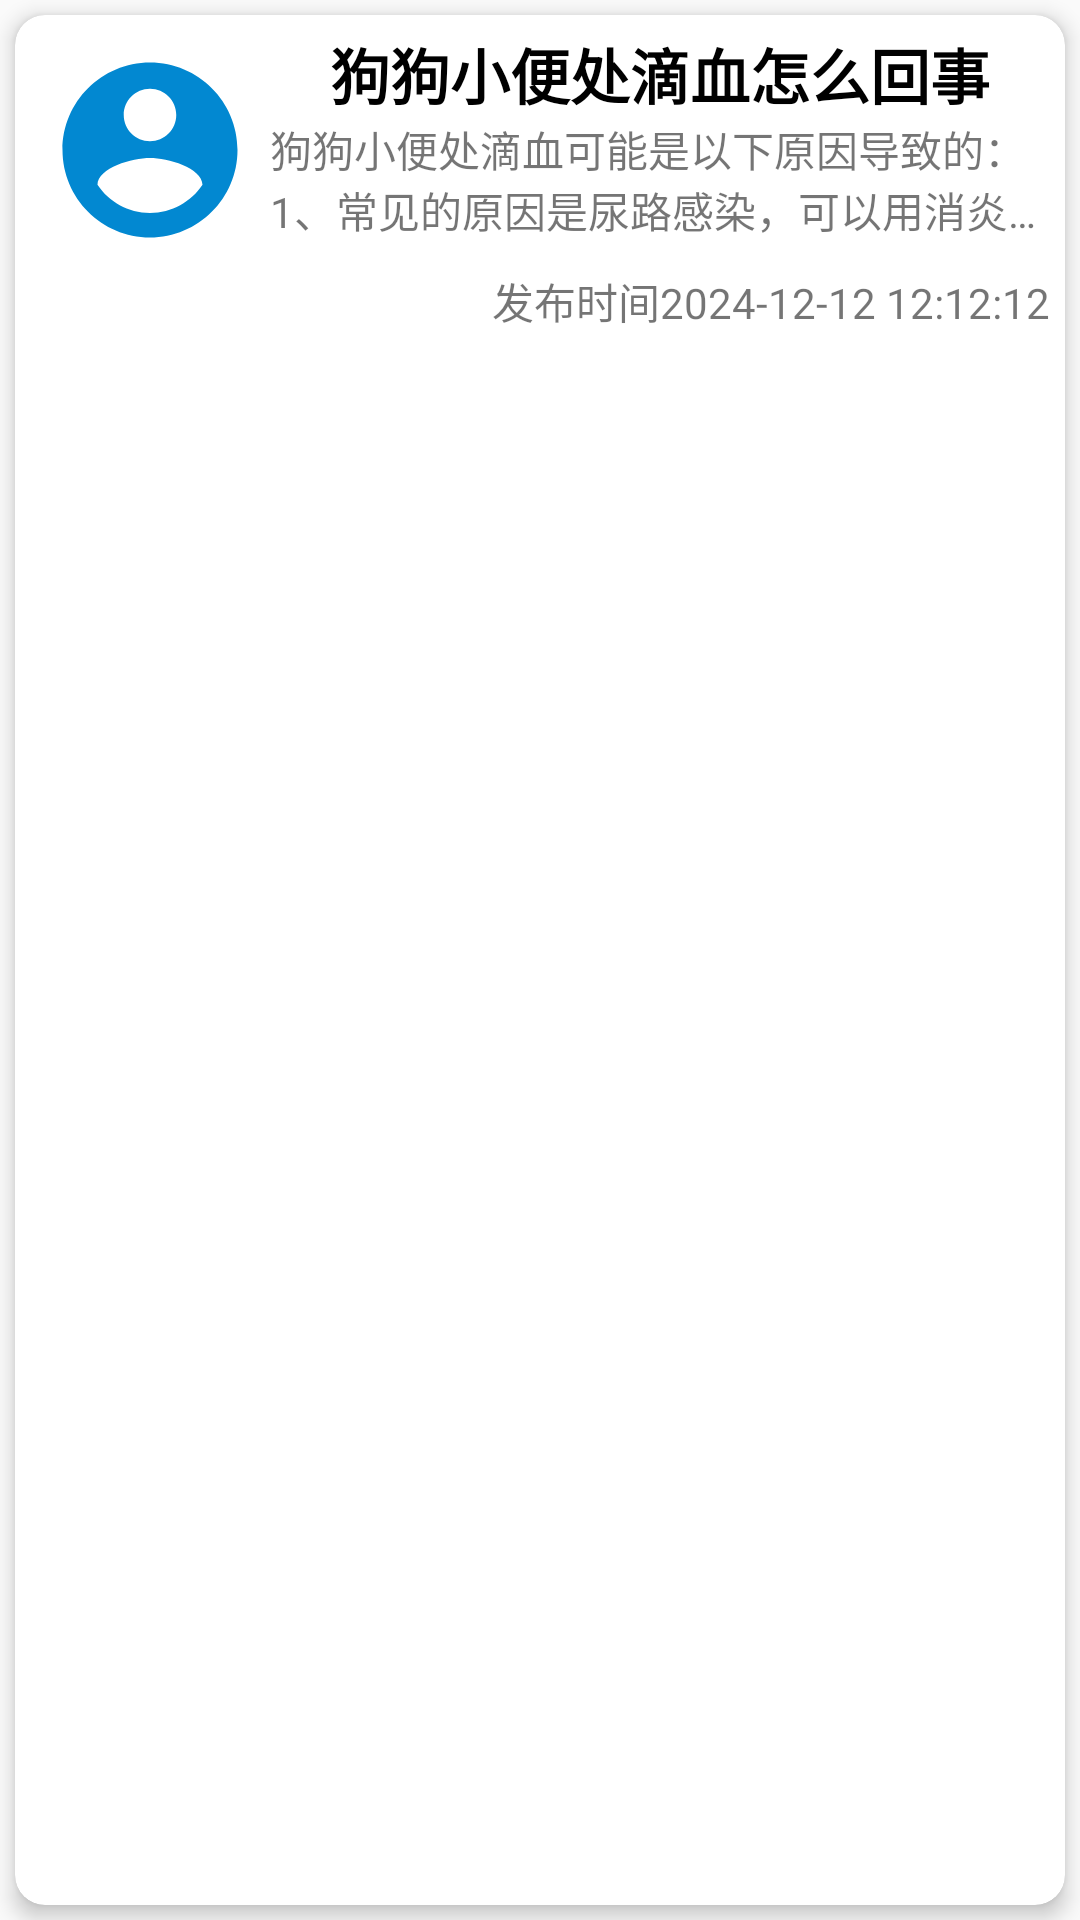

Icon click points for this 1080 × 1920 phone screenshot, format (x=x, y=y):
account circle: (x=150, y=150)
